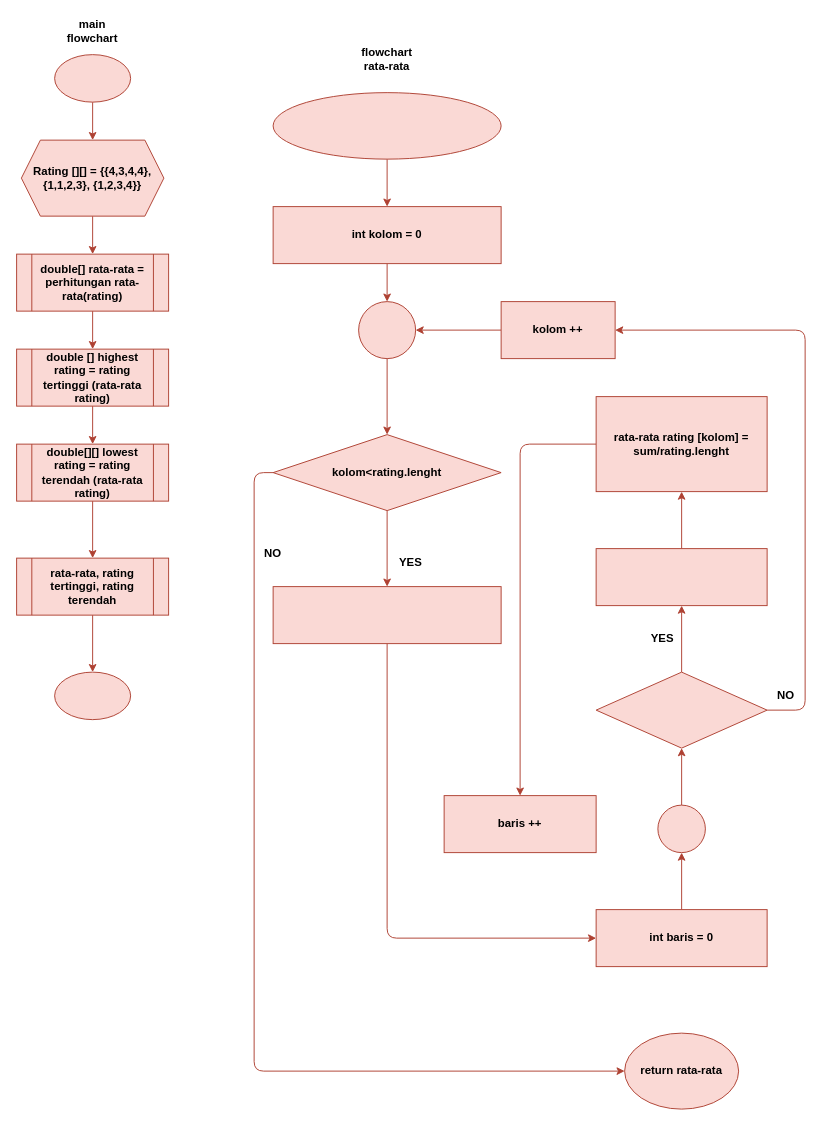
The diagram is 831 pixels wide and 1126 high, and some of its shapes have lost their labels. Here are the shapes that lost their labels. From the top down, the centre of each, then its label:
the point at 92,78: Start
the point at 386,125: Perhitungan rata-rata (rating)
the point at 681,577: sum += rating[baris] [kolom]
the point at 386,615: sum = 0
the point at 92,695: end
the point at 681,709: baris<rating.lenght
